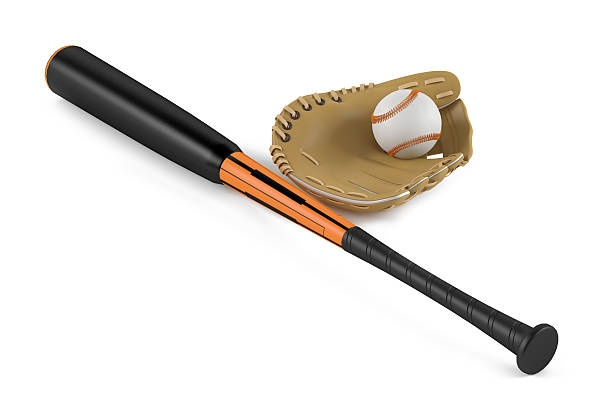bita: (44, 39, 557, 371)
